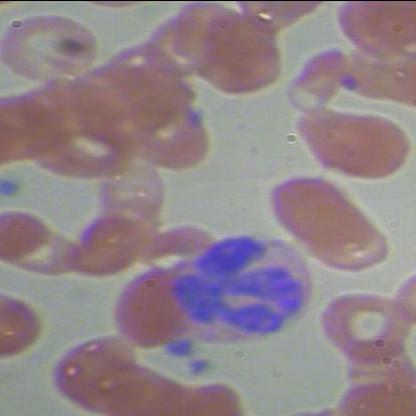Platelets: (180, 350, 214, 378), (164, 334, 197, 362), (0, 174, 26, 200)
RBC: (290, 104, 413, 186), (0, 7, 101, 91), (198, 10, 291, 100), (318, 287, 409, 369), (265, 174, 359, 253), (107, 265, 192, 350), (52, 326, 136, 412), (126, 95, 209, 173), (92, 152, 172, 228), (142, 8, 219, 86), (67, 206, 147, 281), (312, 209, 392, 284), (284, 44, 350, 122), (328, 1, 416, 57)
WBC: (168, 228, 320, 344)
